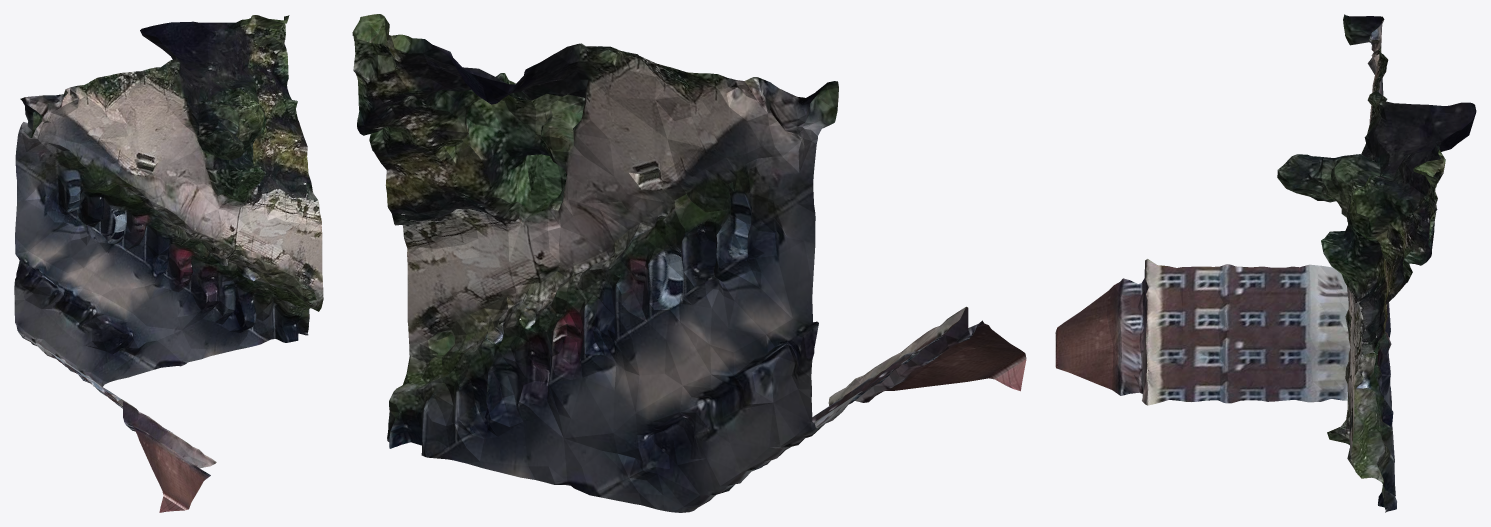
Rendered from Tile_+031_+022_L20_0000300.obj.
The picture shows the model from 3 angles, left to right: view 1: azimuth 30°, elevation 25°; view 2: azimuth 150°, elevation 25°; view 3: azimuth 270°, elevation 25°; orthographic projection. The views are drawn at different scales.
Size of the model in its own units: 31.5 by 31.5 by 35.32.
1 material, 1 textured.
